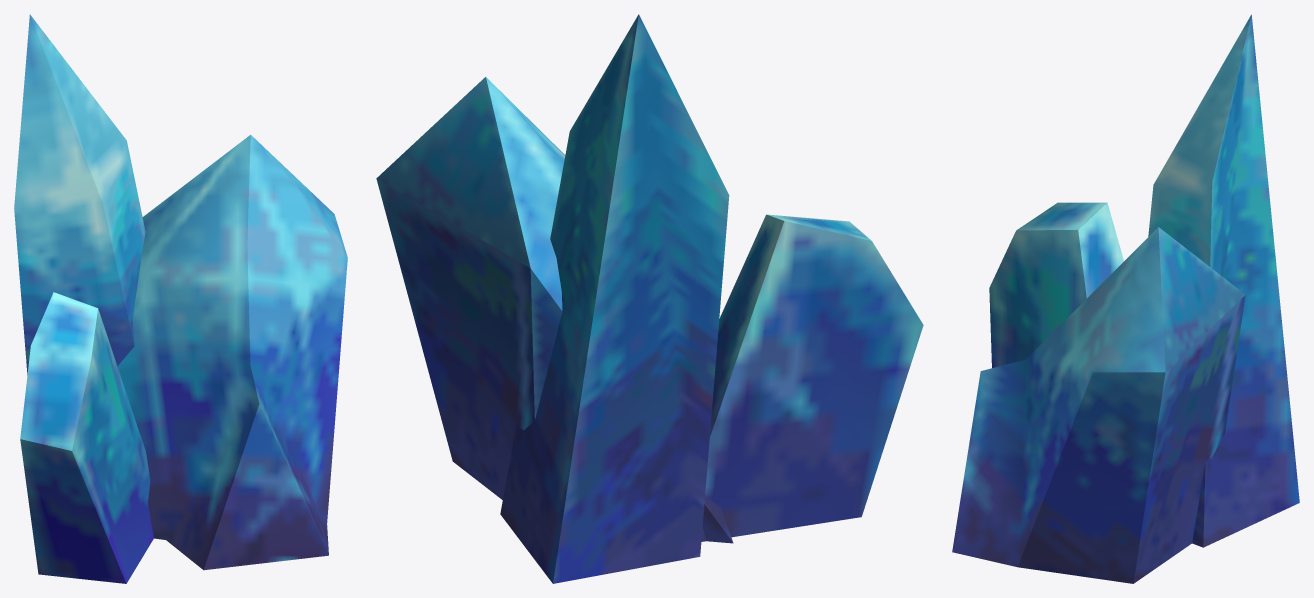
File: dx_shuijing_3.FBX
The picture shows the model from 3 angles, left to right: view 1: azimuth 30°, elevation 25°; view 2: azimuth 150°, elevation 25°; view 3: azimuth 270°, elevation 25°; orthographic projection. The views are drawn at different scales.
Visible parts, largest first — view 1: dx_shuijing_3; view 2: dx_shuijing_3; view 3: dx_shuijing_3.
Part boxes in pixels (box(x1,y1,x2,y2)): dx_shuijing_3: box(14, 14, 347, 583); dx_shuijing_3: box(376, 14, 923, 583); dx_shuijing_3: box(952, 14, 1299, 583).
Bounding box in the file's own units: 60.3 × 70.07 × 47.39.
Materials: 1 (1 with a texture image).
